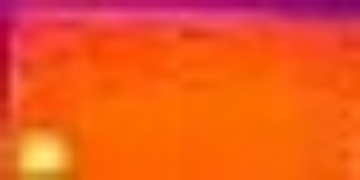Hotspot: (16, 125, 75, 173)
